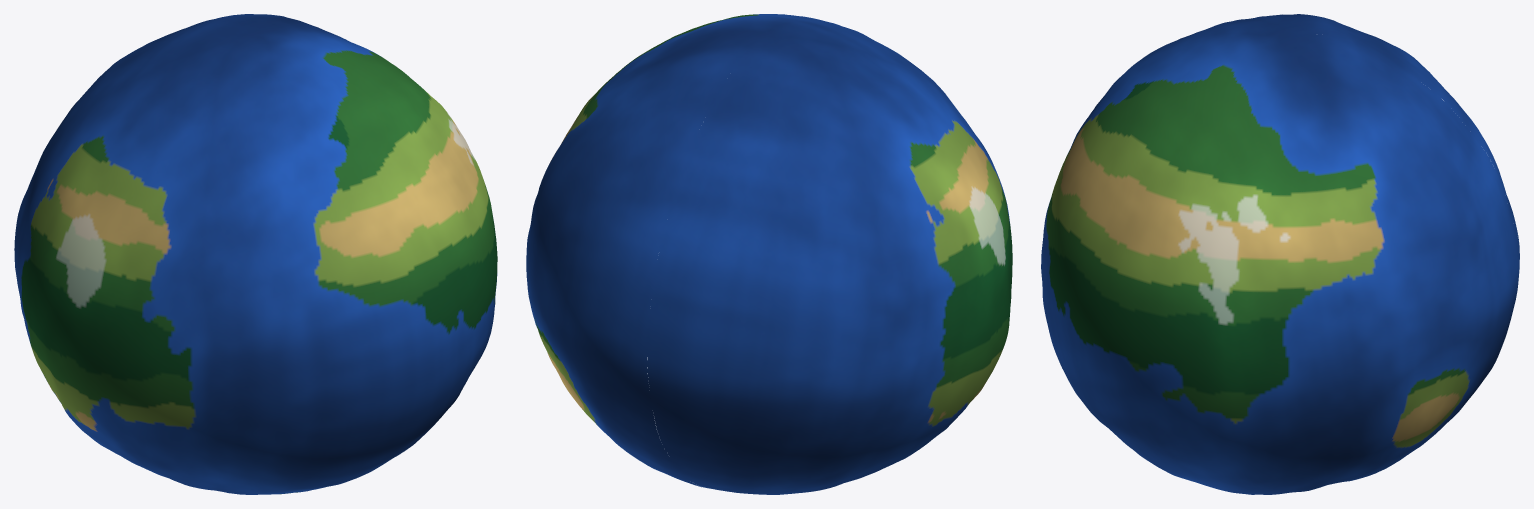
The model's file is canonical_world.glb.
3 views of the same model, side by side, from view 1: azimuth 30°, elevation 25°; view 2: azimuth 150°, elevation 25°; view 3: azimuth 270°, elevation 25° (orthographic).
Visible parts, largest first — view 1: Canonical_Earth; view 2: Canonical_Earth; view 3: Canonical_Earth.
Boxes of the visible parts, x1,y1,x2,y2 form: Canonical_Earth: (14,14,497,494); Canonical_Earth: (526,14,1012,494); Canonical_Earth: (1041,14,1519,494).
Size of the model in its own units: 2.03 by 1.98 by 1.98.
Materials: 1 (1 with a texture image).
